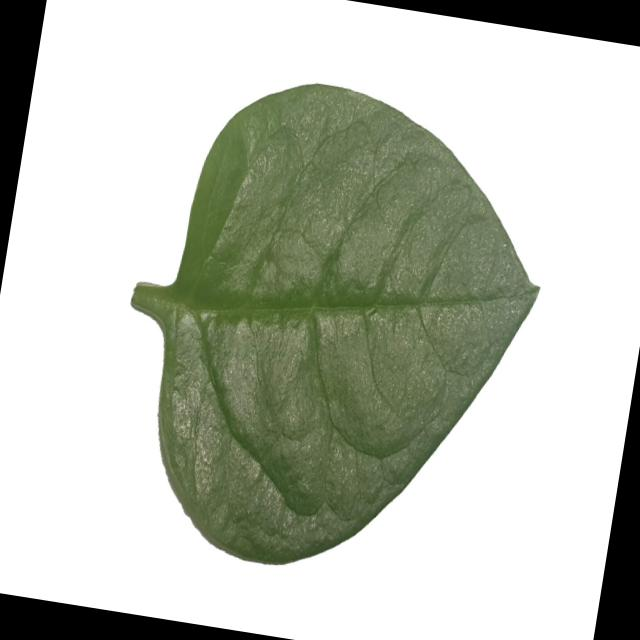Medicinal-Basale: (93, 53, 568, 599)
